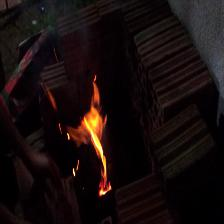fire: (46, 76, 142, 209)
